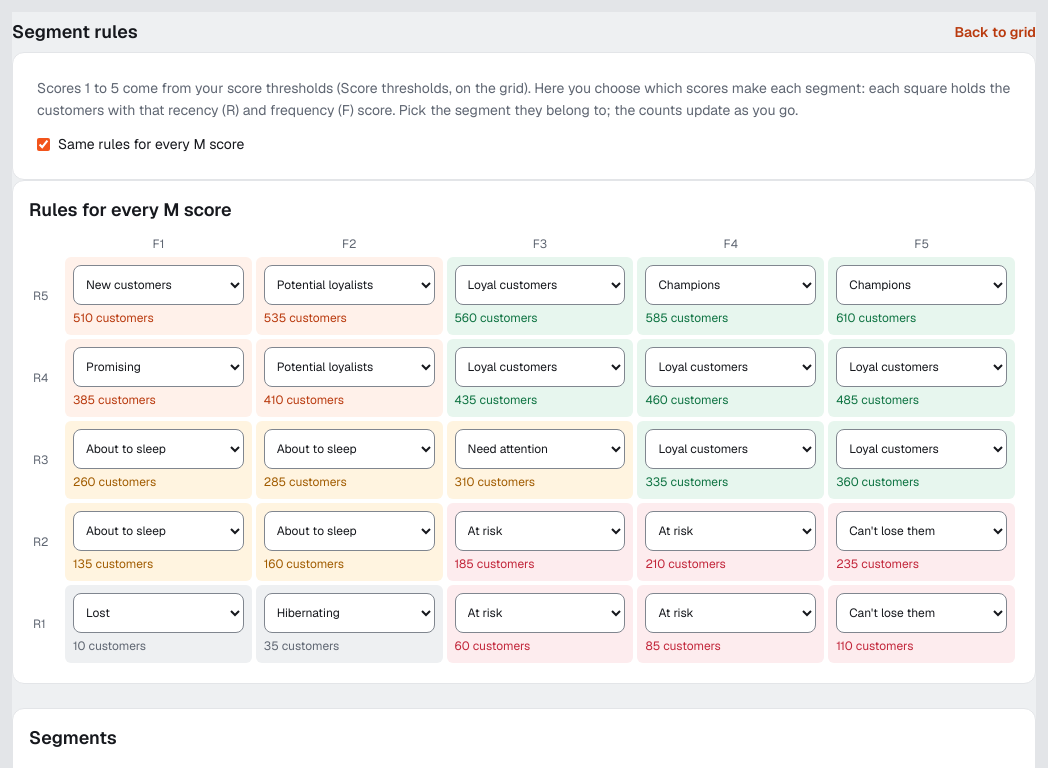
it: RulesScreen (S7, PRD story 6) › lets one M score have its own rules, and copies a layer back to all five
Click the checkbox labelled "Same rules for every M score" at (44, 144), box [37,138,50,150]
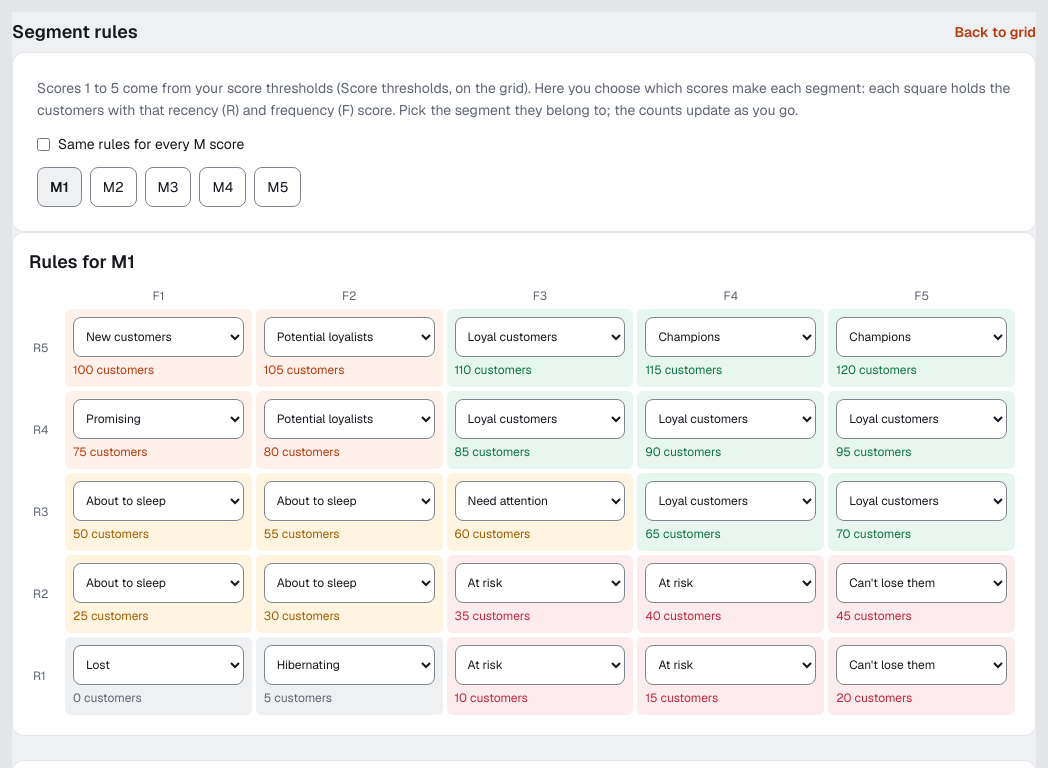
Click the radio button labelled "M3" at (168, 187), box [145,167,192,207]
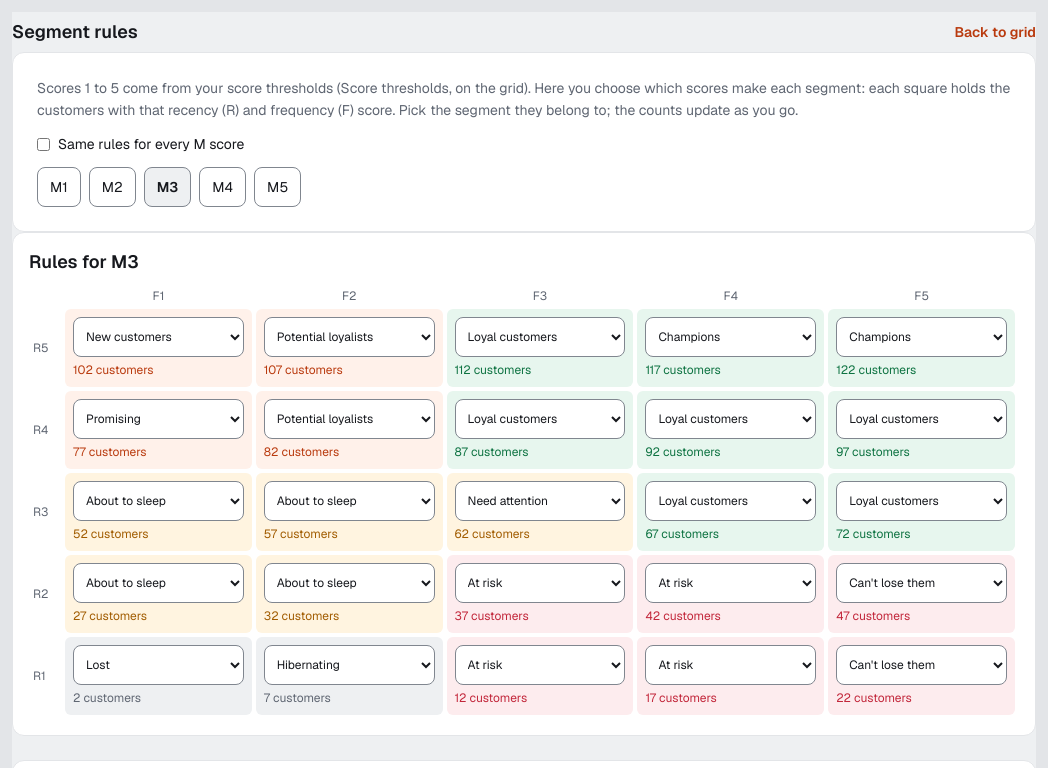
Select "Champions" in the dropdown named "Segment for R3 F3 M3" at (540, 501), box [455,481,625,521]
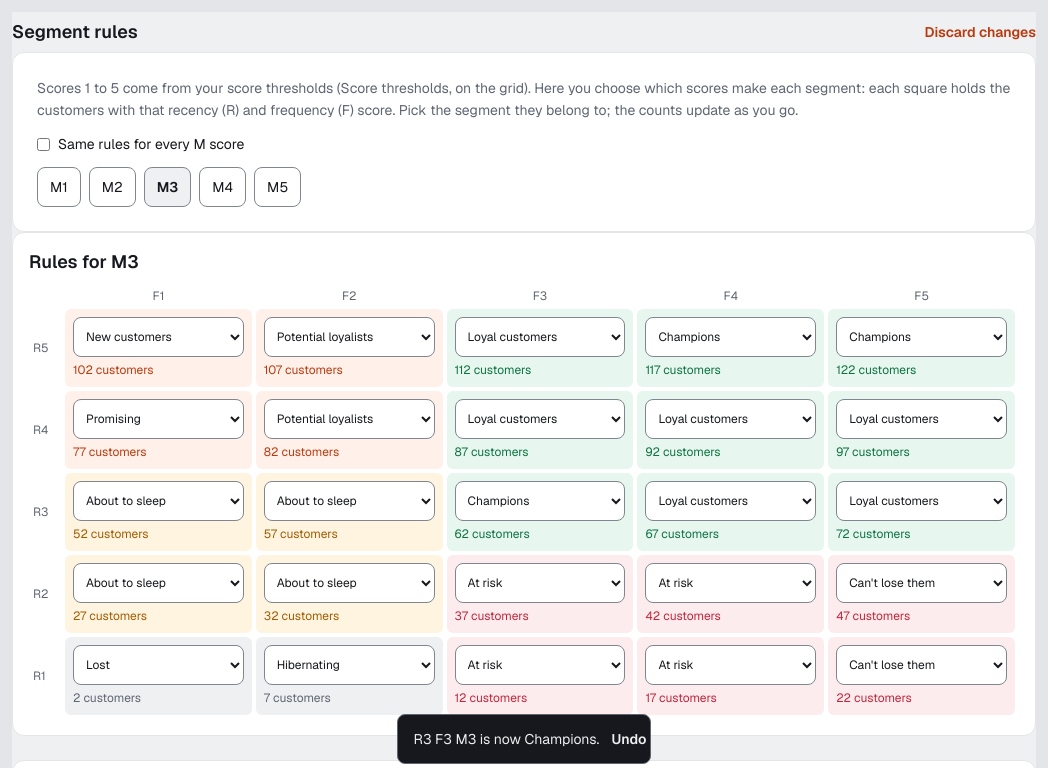
Click the checkbox labelled "Same rules for every M score" at (44, 144), box [37,138,50,150]
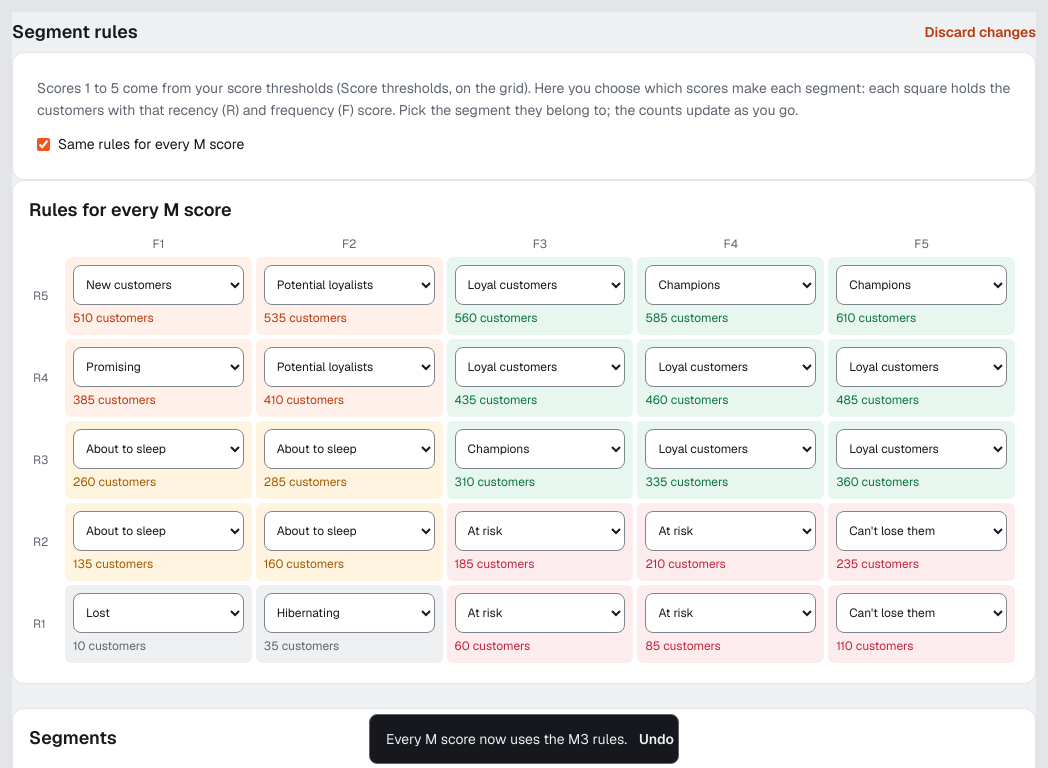
Now the message shows "Every M score now uses the M3 rules.", box [386,730,627,748]
